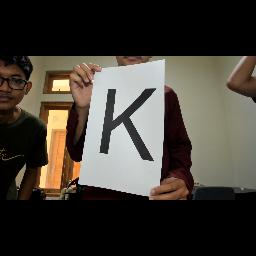k: (90, 82, 168, 166)
